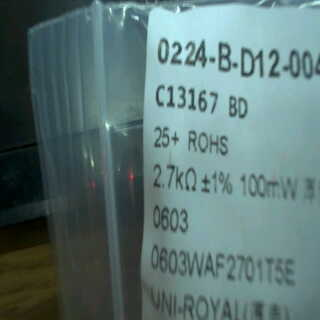2.7kR: (141, 160, 198, 194)
